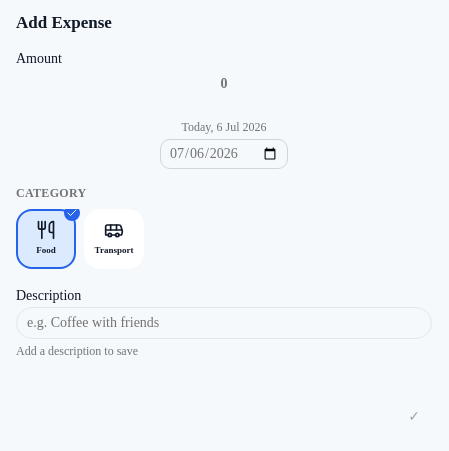
Scenario: QuickAddForm › keeps entered values and shows an inline aria-live error when save fails
Expected: the text "Food" is shown, 36,244 -> 56,257
Type "150" into the field labelled "Amount" at (224, 84), box 16,70 -> 432,98
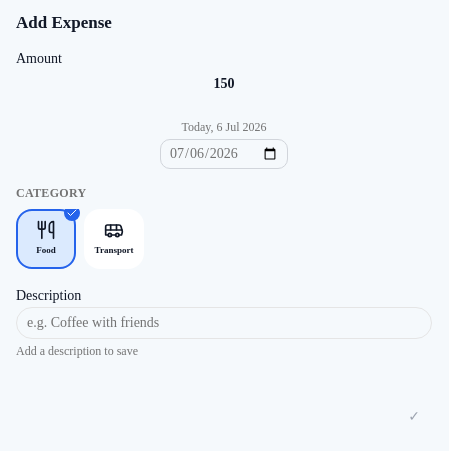
Type "Coffee" into the field labelled "Description" at (224, 322), box 16,306 -> 432,338
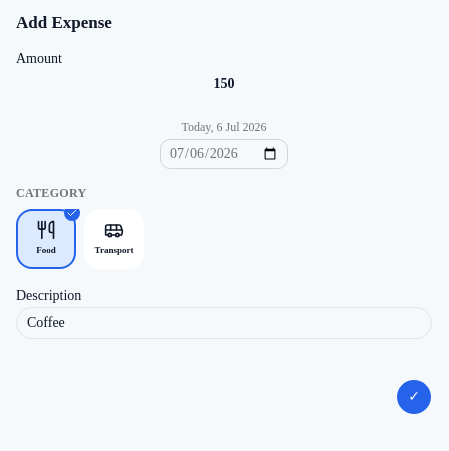
Click the button named "Save expense" at (414, 396), box 396,378 -> 432,414
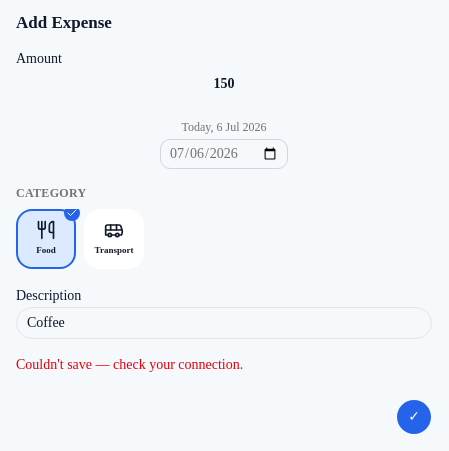
Now the text "Couldn't save — check your connection." is shown, box 16,356 -> 243,372
